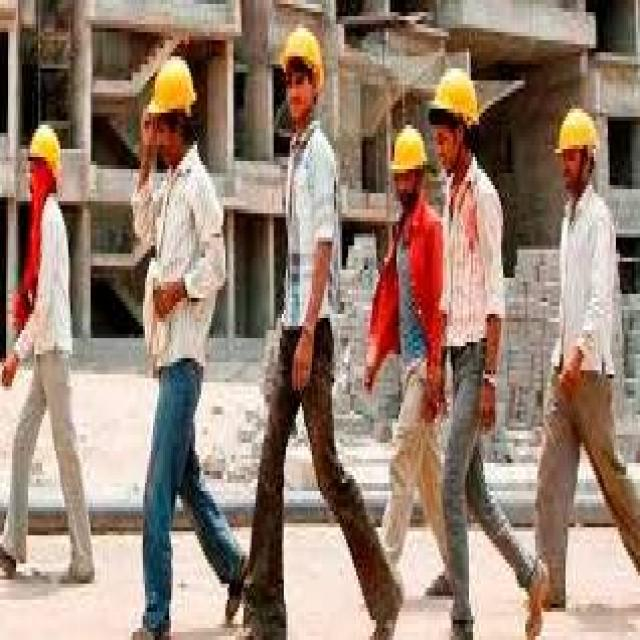Safety-Helmet: (139, 44, 201, 133), (423, 56, 485, 141), (274, 16, 330, 97), (382, 113, 433, 193), (549, 97, 604, 169), (22, 117, 69, 189)
